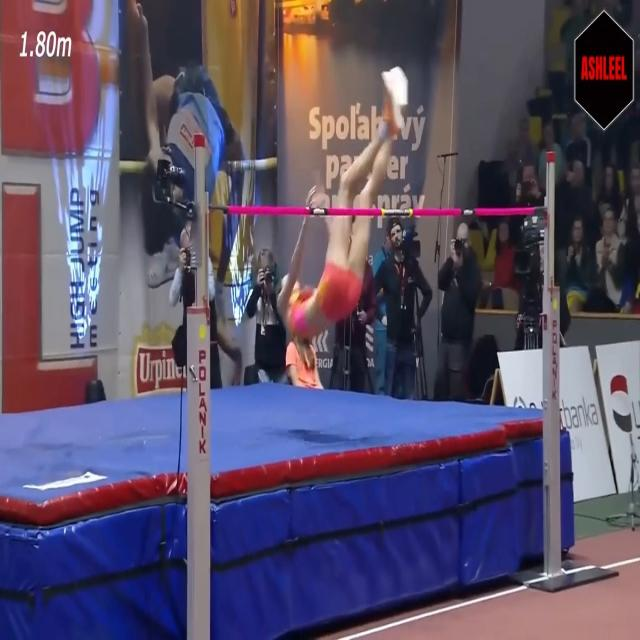land: (276, 63, 408, 341)
